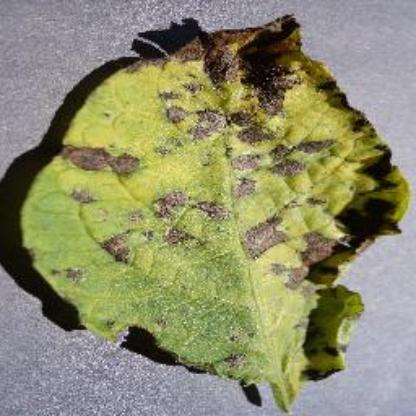Early-Blight: (19, 8, 413, 408)
